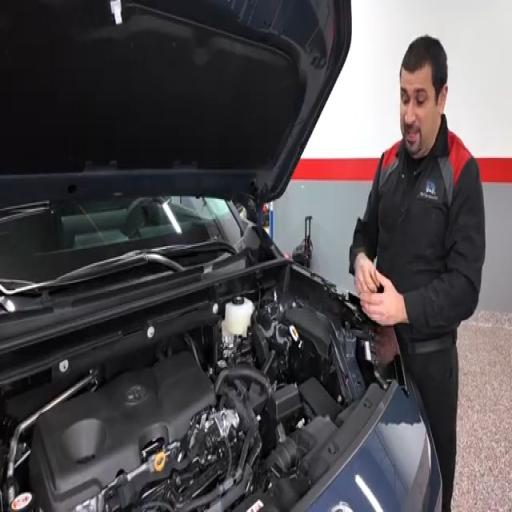bumper: (308, 387, 441, 511)
emblem: (126, 386, 146, 405), (330, 503, 353, 511)
hood: (0, 0, 351, 204)
windshield: (0, 197, 242, 287)
